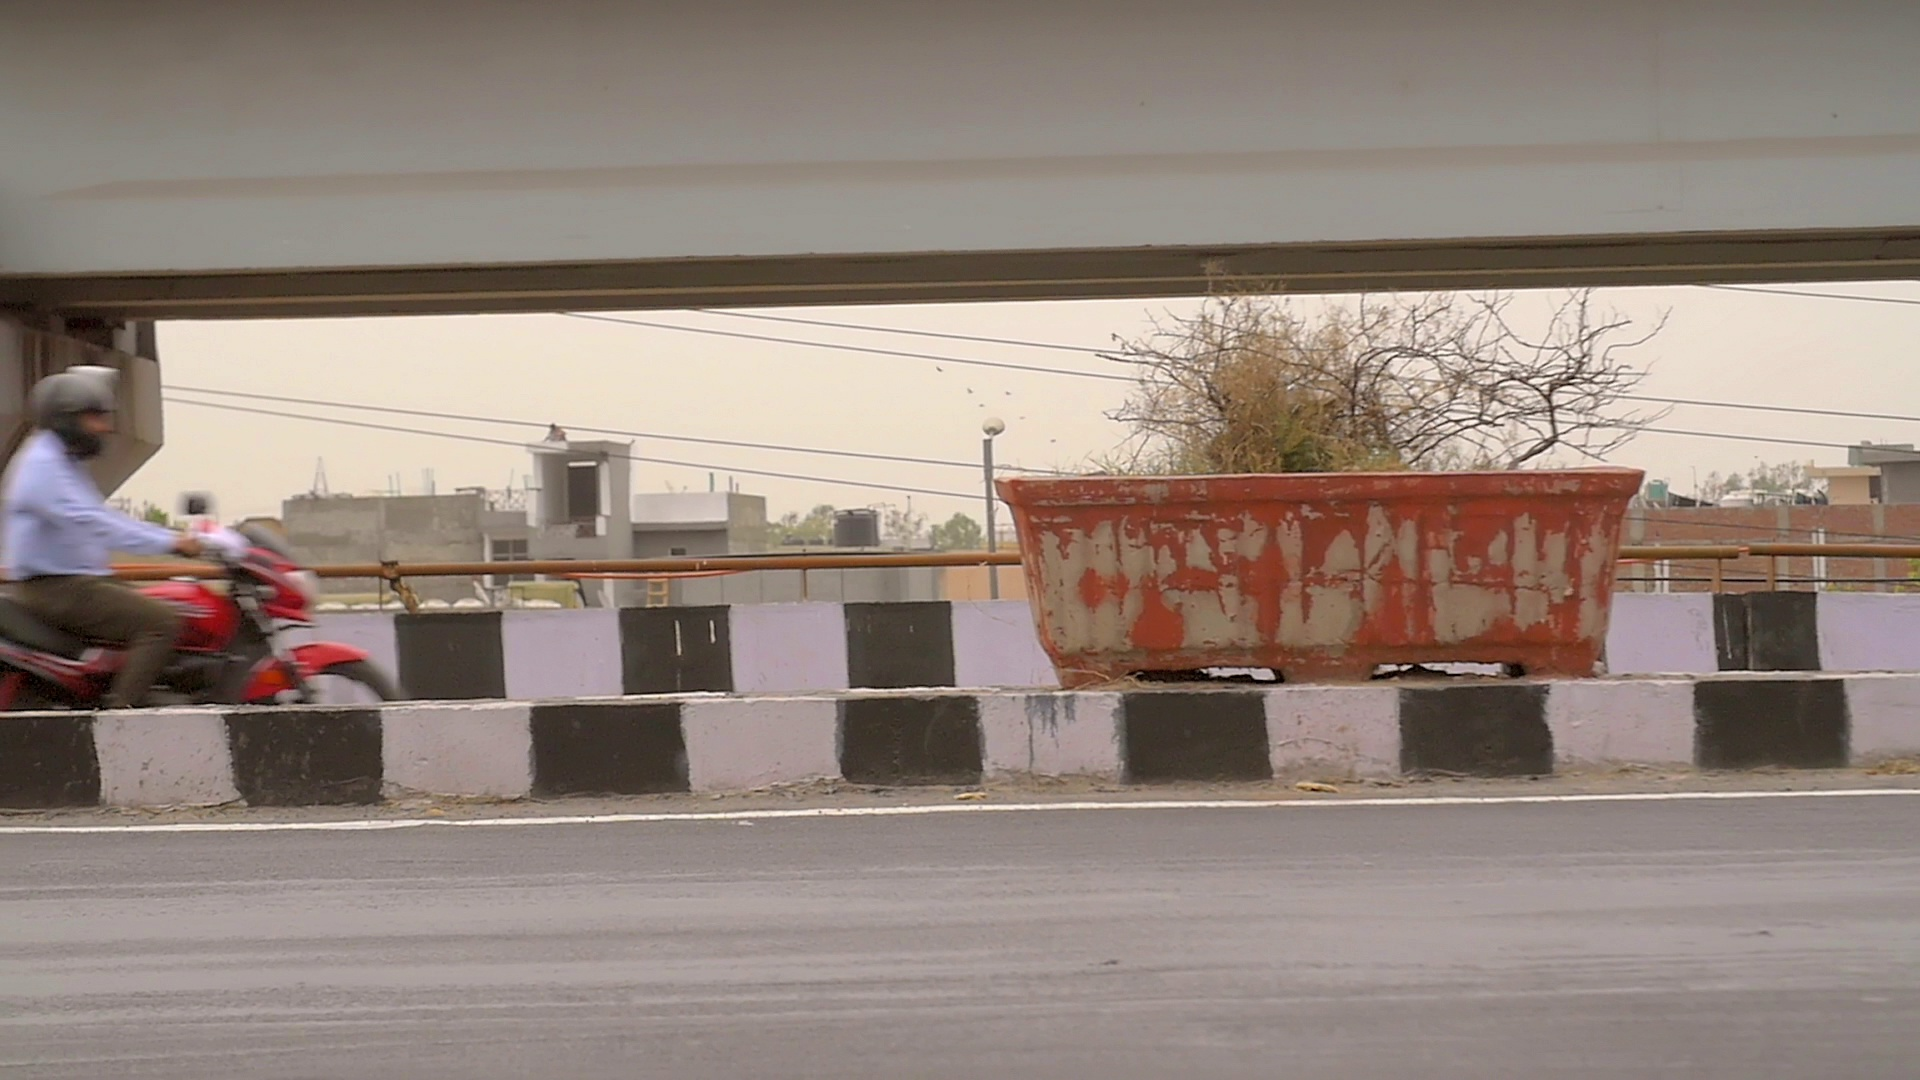bike: (7, 347, 386, 749)
